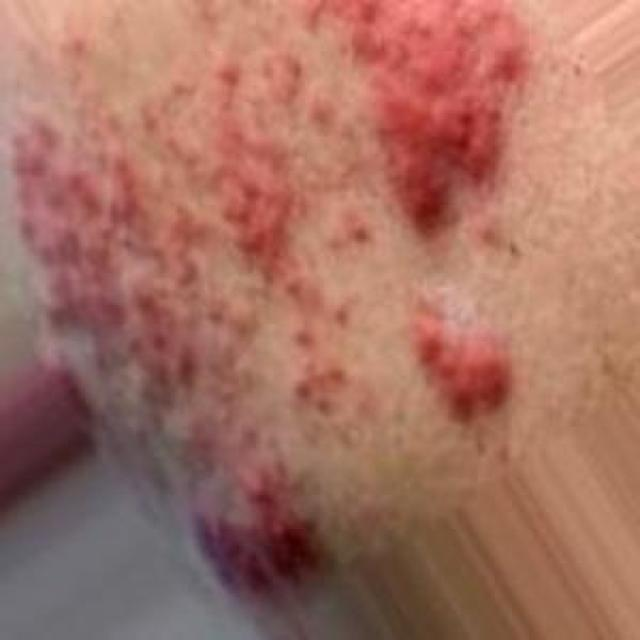Shingles: (0, 0, 535, 595)
